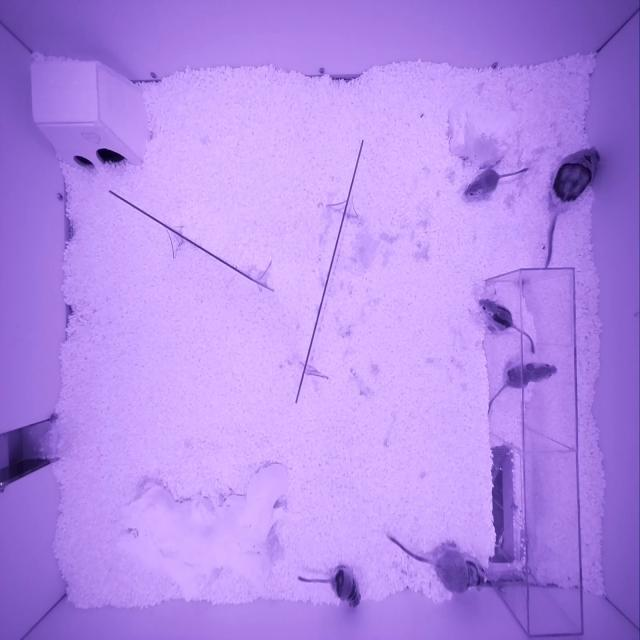adult_back: (549, 146, 602, 213)
adult_front: (432, 547, 485, 595)
pup_fluffy: (463, 168, 499, 200)
pup_h_stripe: (331, 568, 361, 607)
pup_spotted: (506, 362, 558, 389)
pup_v_stripe: (479, 299, 512, 331)
